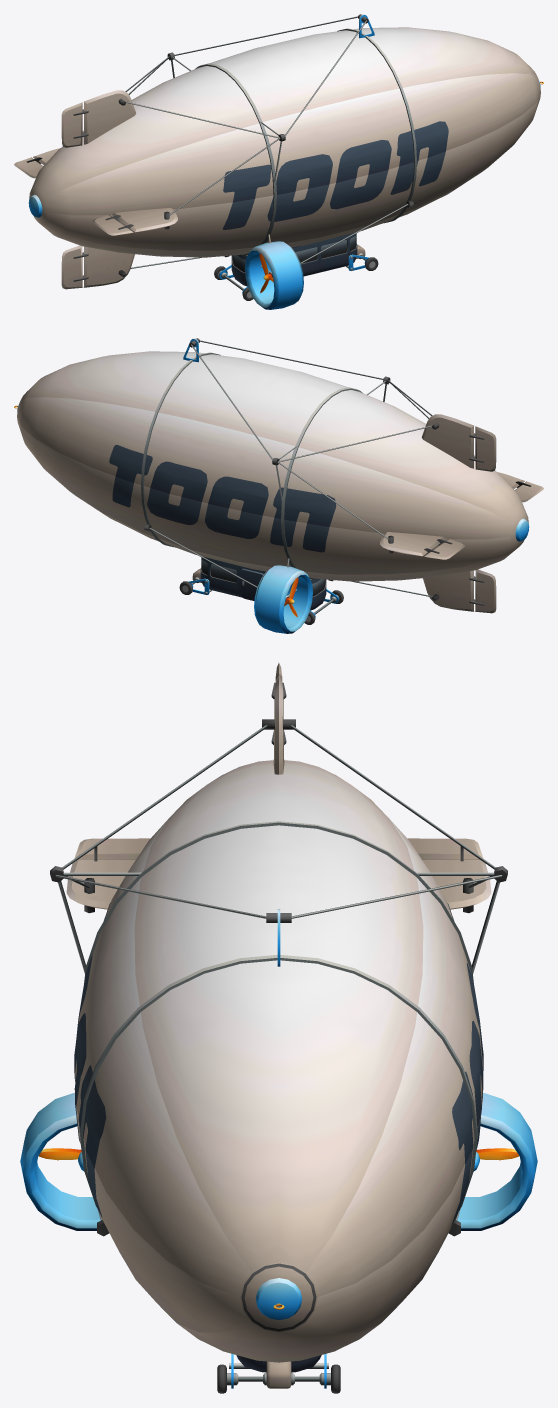
The model's file is blimp.fbx.
3 views of the same model, one above another, from view 1: azimuth 30°, elevation 25°; view 2: azimuth 150°, elevation 25°; view 3: azimuth 270°, elevation 25° (orthographic). The views are drawn at different scales.
Parts seen in each view (by area): view 1: Blimp; view 2: Blimp; view 3: Blimp.
Boxes of the visible parts, box(x1,y1,x2,y2) form: Blimp: box(14, 14, 543, 309); Blimp: box(14, 338, 543, 633); Blimp: box(20, 663, 537, 1393).
Bounding box in the file's own units: 5229 × 2380 × 2285.
